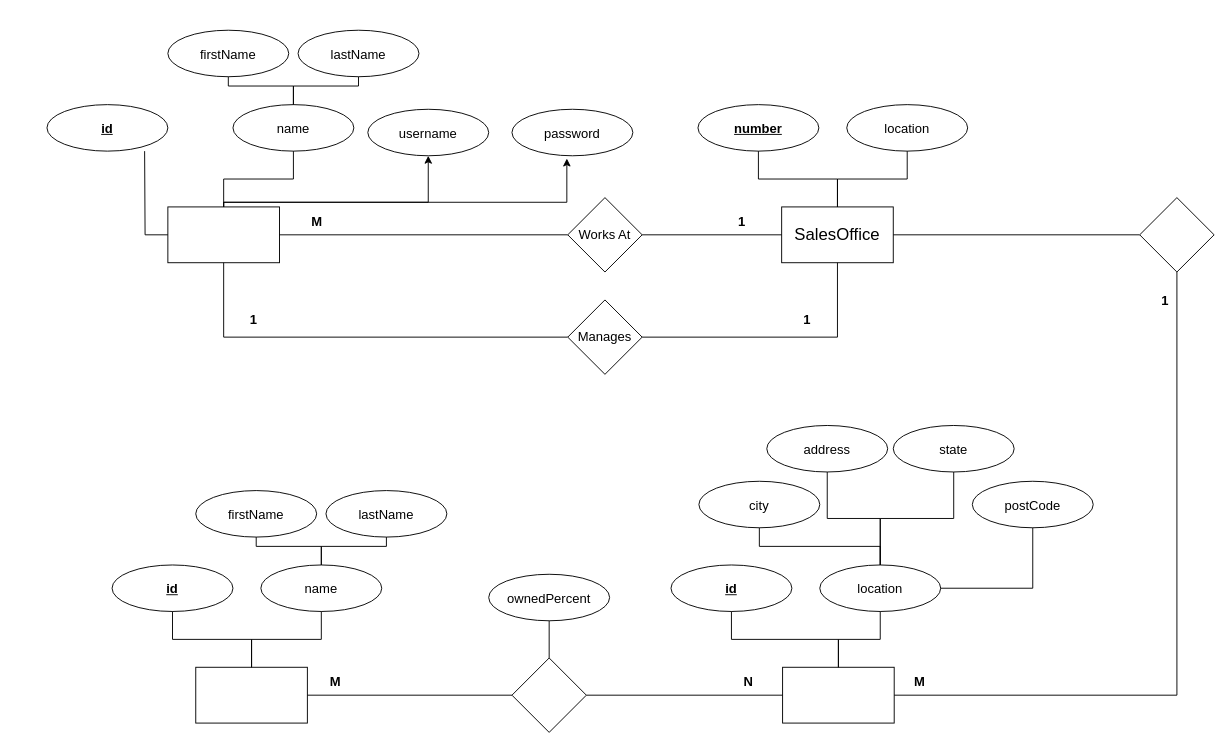
Some shapes in this 1230 by 749 pixel diagram are drawn without their labels. Each missing label, with the box of its shape:
Employee: (167, 206, 279, 263)
Lists: (1139, 197, 1214, 272)
Owner: (195, 666, 307, 723)
Owns: (511, 657, 586, 732)
Property: (782, 666, 894, 723)
